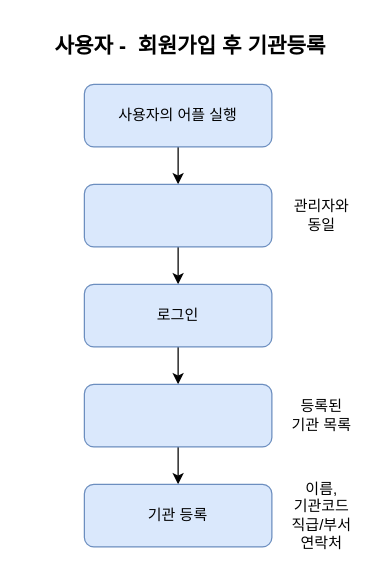
Image size: 380x573. Some labels were removed from this diagram. Here are the shapes that lost their labels. From the top down, the box of each, then its label:
(83, 183, 272, 247): 회원가입
(83, 383, 272, 447): 메인페이지 이동
